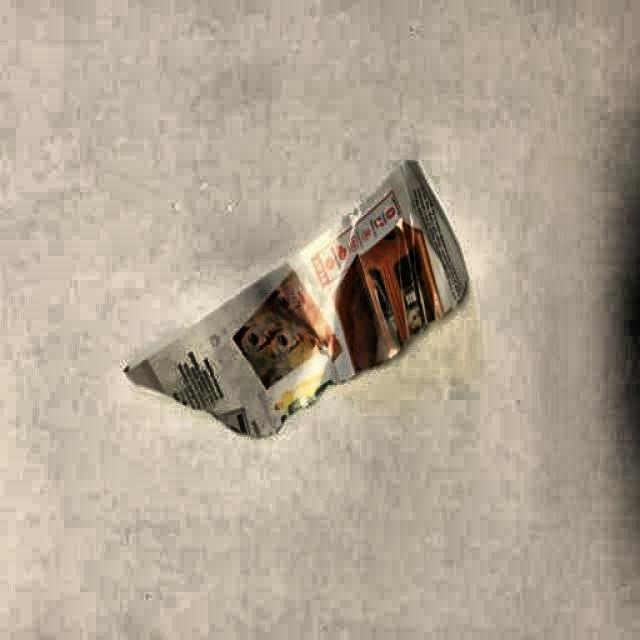Paper: (123, 160, 468, 438)
